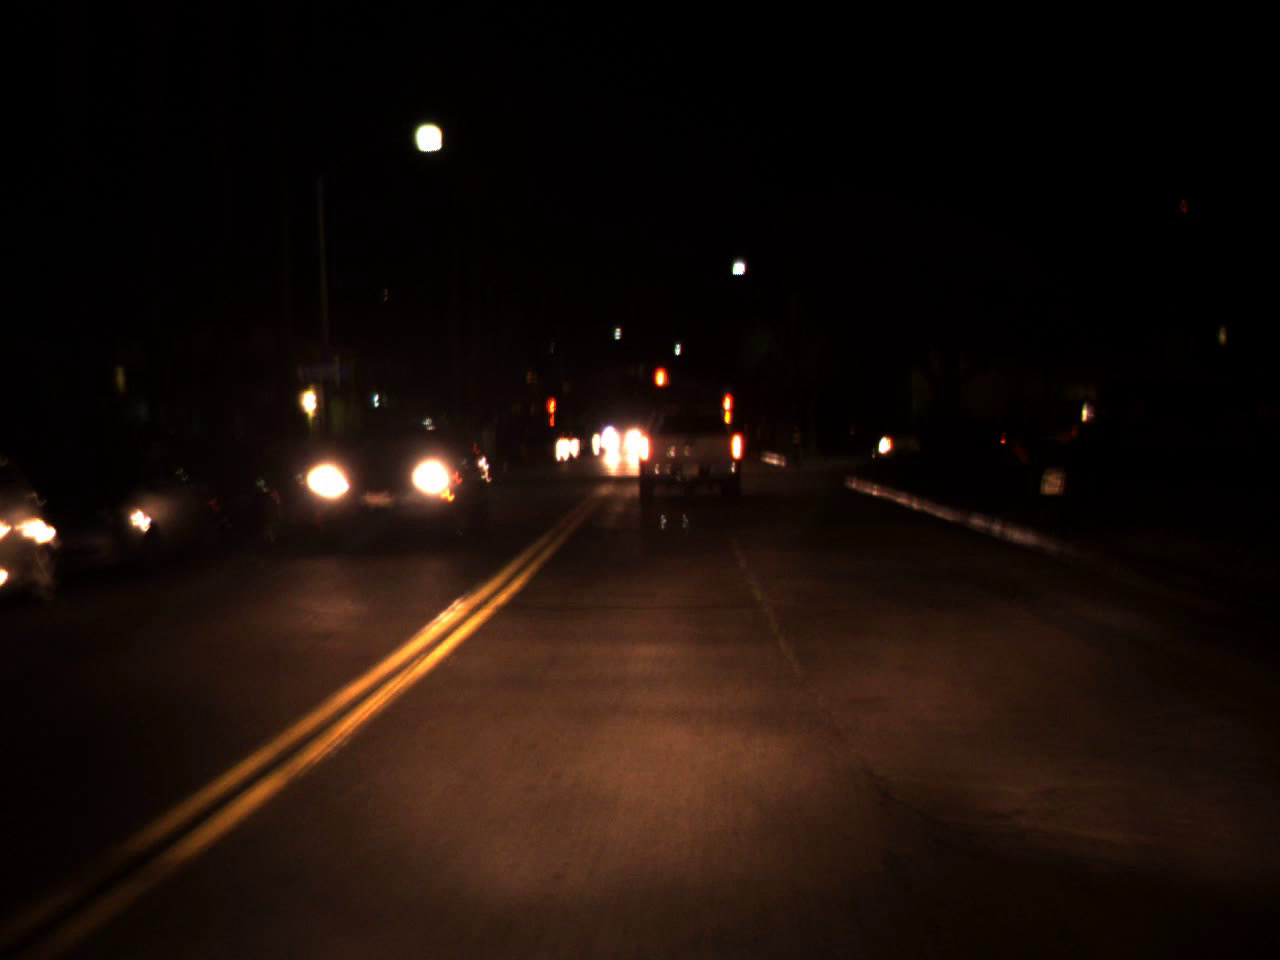stop: (652, 364, 670, 409), (719, 393, 732, 422), (545, 395, 557, 424)
